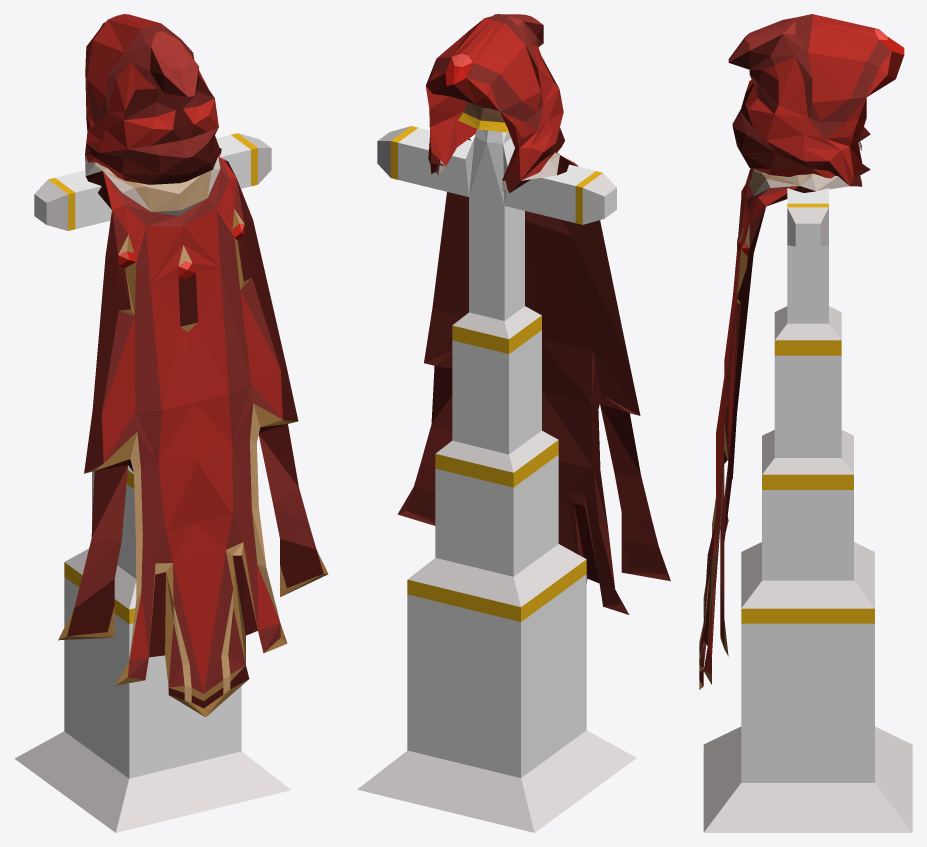
File: achievement-cape-hanger.gltf
3 renders of one model, left to right at view 1: azimuth 30°, elevation 25°; view 2: azimuth 150°, elevation 25°; view 3: azimuth 270°, elevation 25°, orthographic. The views are drawn at different scales.
Bounding box in the file's own units: 77 × 203 × 51.
1 material, 1 textured.
